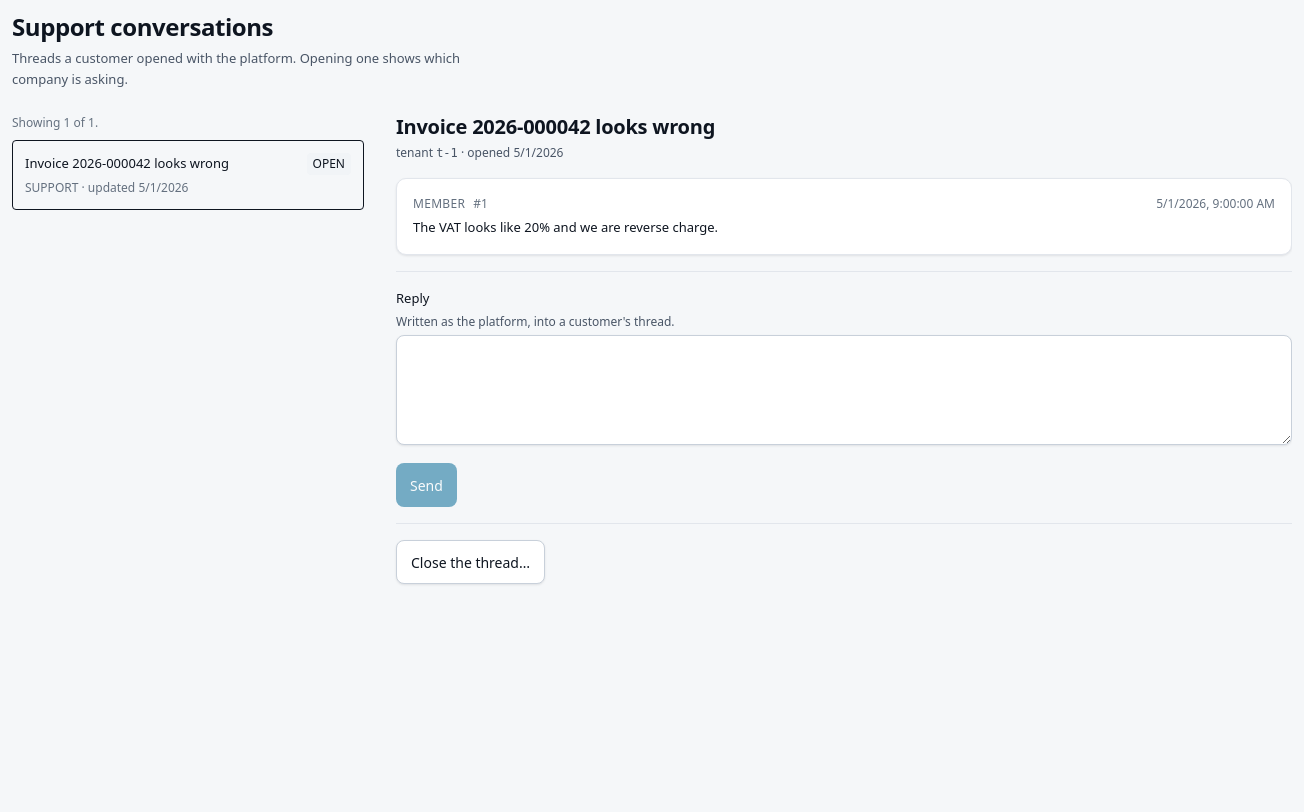
Test: a reply › appears only once the server has taken it, and as the server tells it
The image size is (1304, 812).
Type "Looking into it." into the text box labelled "Reply" at (844, 390), box [396,335,1292,445]
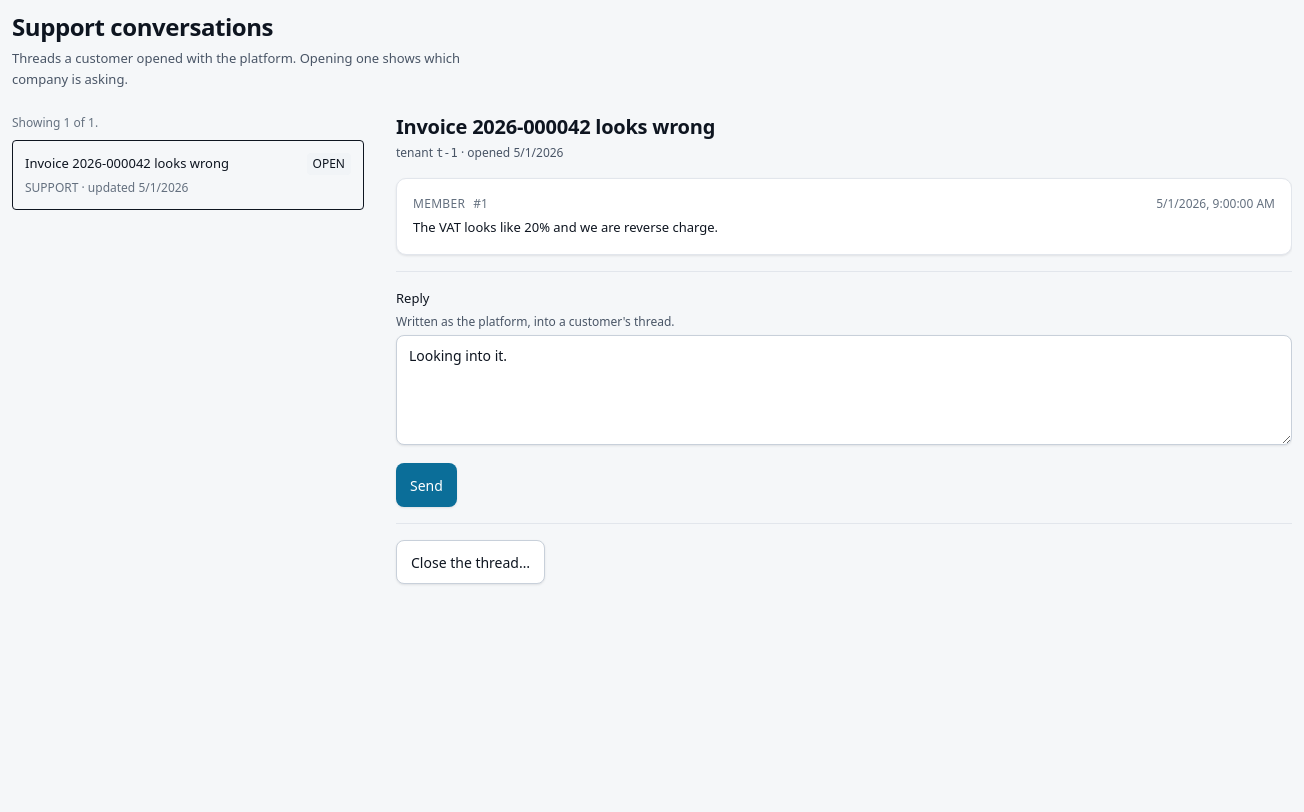
Click the button "Send" at (426, 485), box [396,463,457,507]
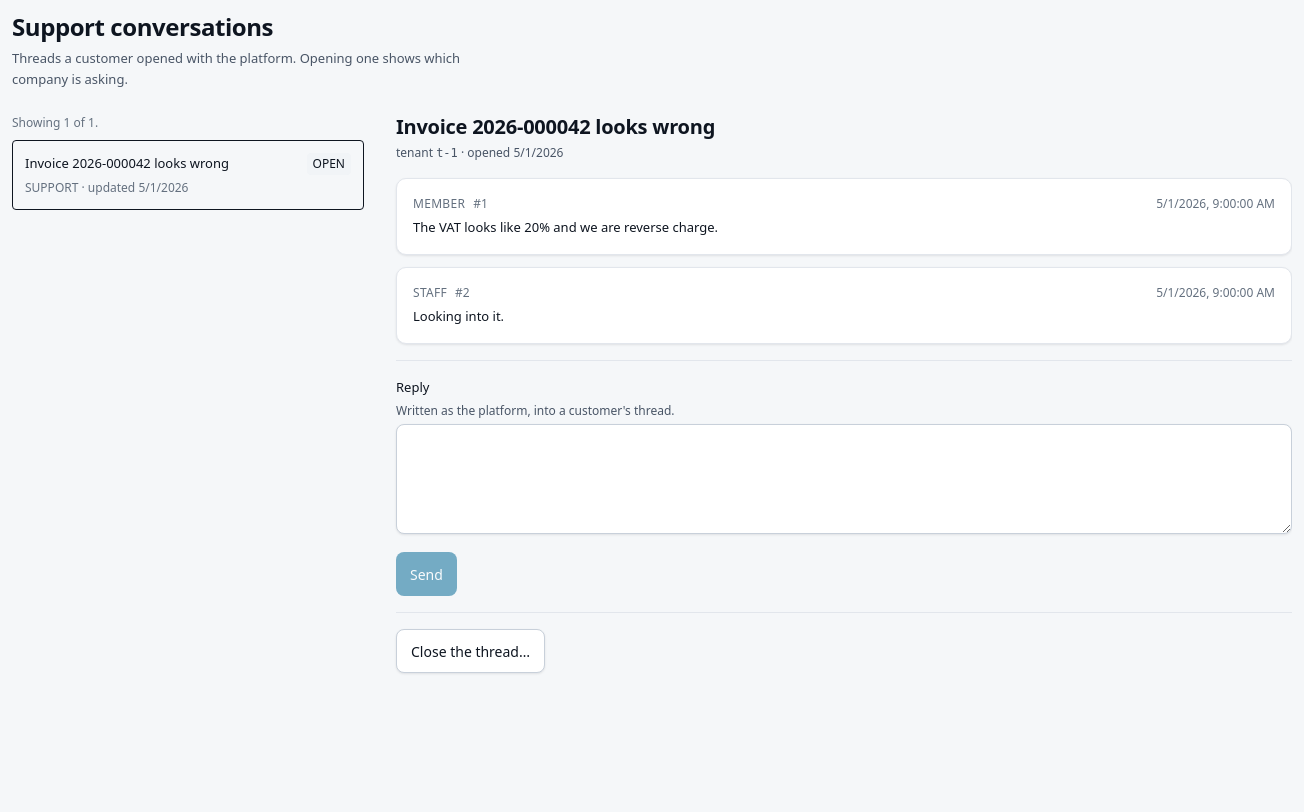
Check: the list item "STAFF #2 5/1/2026, 9:00:00 AM Looking into it." is shown, box [396,267,1292,344]
Check: the elements with test id "author-kind" read "MEMBER", "STAFF", in this order, box [413,195,465,213]; [413,284,447,302]
